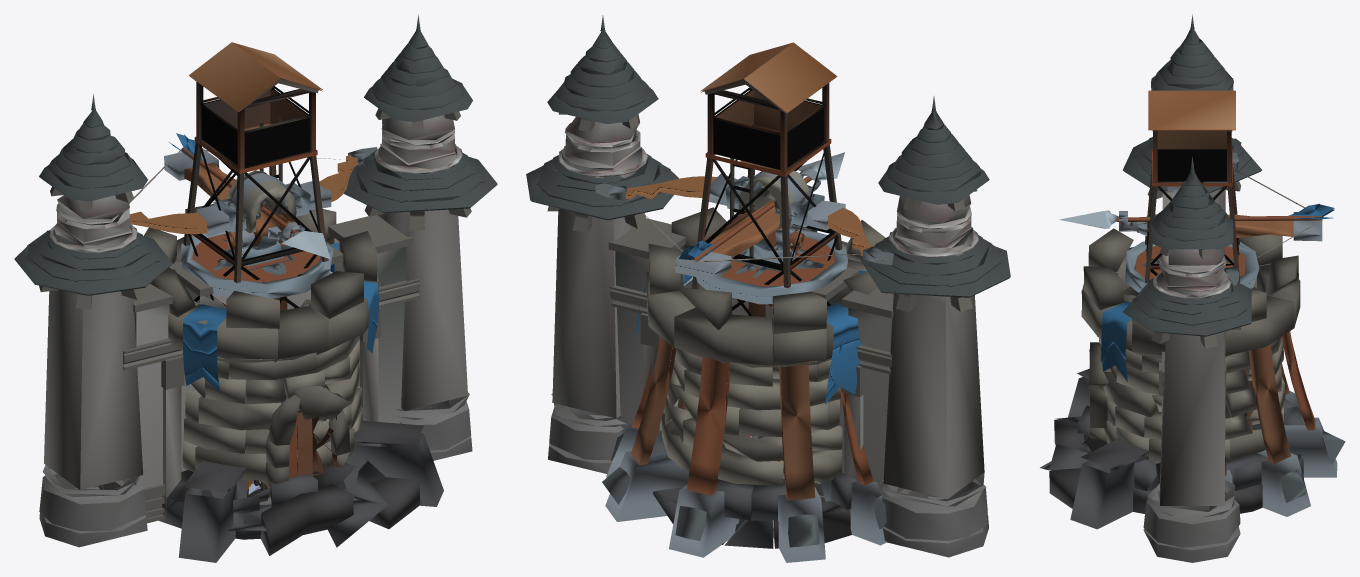
The model's file is kit_def.glb.
3 views of the same model, side by side, from view 1: azimuth 30°, elevation 25°; view 2: azimuth 150°, elevation 25°; view 3: azimuth 270°, elevation 25° (orthographic). The views are drawn at different scales.
Visible parts, largest first — view 1: Tower_stone_0, Roof_Roof_0, watchtower_watchtower_0, Tower_Cement_0, Wall_stone_0, Cube.010_stone-2-2_0, Cube.012_stone-1-5_0, Cube.011_stone-1-4_0, Design_angle_0, Cube.019_stone-2_0, Design_stone_0, Cube.018_stone-2_0 (+35 smaller); view 2: Tower_stone_0, Roof_Roof_0, watchtower_watchtower_0, Tower_Cement_0, Wall_stone_0, Cube.011_stone-1-5_0, Cube.009_stone-2_0, Cube.024_wood-1-2_0, Cube.012_stone-1-4_0, Cube.029_wood-1_0, Cube.011_stone-1-4_0, Wall_angle_0 (+34 smaller); view 3: Tower_stone_0, Roof_Roof_0, watchtower_watchtower_0, Tower_Cement_0, Cube.011_stone-1-4_0, Cube.018_stone-2_0, Cube.009_stone-2_0, Cube.026_wood-1-2_0, Cube.012_stone-1-4_0, Cube.012_stone-1-5_0, Cube.032_stone-1_0, Cube.028_metall-3_0 (+29 smaller).
Part boxes in pixels (left/top/right/bottom): Tower_stone_0: left=44, top=115, right=467, bottom=490; Roof_Roof_0: left=14, top=14, right=497, bottom=295; watchtower_watchtower_0: left=181, top=42, right=330, bottom=491; Tower_Cement_0: left=39, top=392, right=472, bottom=547; Wall_stone_0: left=136, top=238, right=406, bottom=488; Cube.010_stone-2-2_0: left=260, top=477, right=420, bottom=555; Cube.012_stone-1-5_0: left=150, top=204, right=377, bottom=318; Cube.011_stone-1-4_0: left=168, top=259, right=379, bottom=362; Design_angle_0: left=98, top=279, right=419, bottom=523; Cube.019_stone-2_0: left=178, top=474, right=248, bottom=562; Design_stone_0: left=163, top=338, right=378, bottom=519; Cube.018_stone-2_0: left=344, top=433, right=443, bottom=506; Tower_stone_0: left=552, top=114, right=984, bottom=499; Roof_Roof_0: left=526, top=15, right=1010, bottom=297; watchtower_watchtower_0: left=674, top=42, right=842, bottom=435; Tower_Cement_0: left=548, top=393, right=988, bottom=557; Wall_stone_0: left=615, top=251, right=890, bottom=495; Cube.011_stone-1-5_0: left=647, top=241, right=847, bottom=365; Cube.009_stone-2_0: left=651, top=430, right=857, bottom=548; Cube.024_wood-1-2_0: left=779, top=362, right=815, bottom=500; Cube.012_stone-1-4_0: left=648, top=220, right=885, bottom=335; Cube.029_wood-1_0: left=686, top=356, right=729, bottom=495; Cube.011_stone-1-4_0: left=646, top=259, right=867, bottom=375; Wall_angle_0: left=608, top=218, right=904, bottom=492; Tower_stone_0: left=1153, top=139, right=1231, bottom=505; Roof_Roof_0: left=1123, top=14, right=1261, bottom=336; watchtower_watchtower_0: left=1145, top=90, right=1252, bottom=430; Tower_Cement_0: left=1143, top=480, right=1240, bottom=562; Cube.011_stone-1-4_0: left=1081, top=247, right=1294, bottom=356; Cube.018_stone-2_0: left=1070, top=455, right=1145, bottom=529; Cube.009_stone-2_0: left=1077, top=399, right=1304, bottom=513; Cube.026_wood-1-2_0: left=1248, top=344, right=1290, bottom=463; Cube.012_stone-1-4_0: left=1088, top=228, right=1282, bottom=321; Cube.012_stone-1-5_0: left=1083, top=255, right=1298, bottom=325; Cube.032_stone-1_0: left=1103, top=371, right=1256, bottom=417; Cube.028_metall-3_0: left=1284, top=417, right=1337, bottom=477.
Size of the model in its own units: 17 by 15.22 by 10.95.
Materials: 7 (5 with a texture image).
